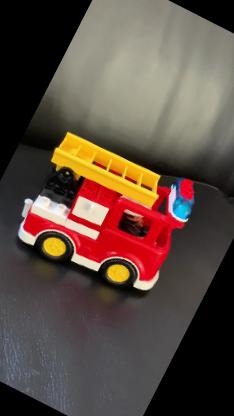lego fire truck: (6, 115, 205, 307)
